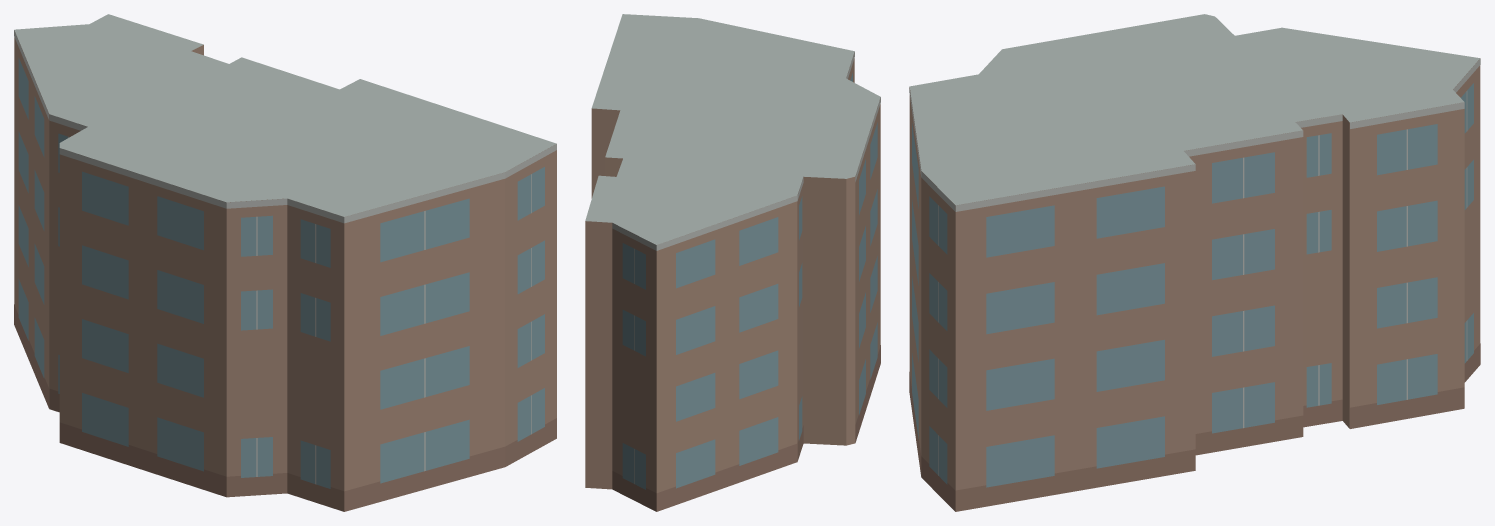
The model's file is survey-upis-32690335.glb.
The picture shows the model from 3 angles, left to right: view 1: azimuth 30°, elevation 25°; view 2: azimuth 150°, elevation 25°; view 3: azimuth 270°, elevation 25°; orthographic projection. The views are drawn at different scales.
Visible parts, largest first — view 1: survey-upis-32690335.tmp; view 2: survey-upis-32690335.tmp; view 3: survey-upis-32690335.tmp.
Boxes of the visible parts, <box> form: survey-upis-32690335.tmp: <box>14,14,556,511</box>; survey-upis-32690335.tmp: <box>585,14,880,511</box>; survey-upis-32690335.tmp: <box>909,14,1480,511</box>.
Size of the model in its own units: 15 by 11.2 by 18.91.
